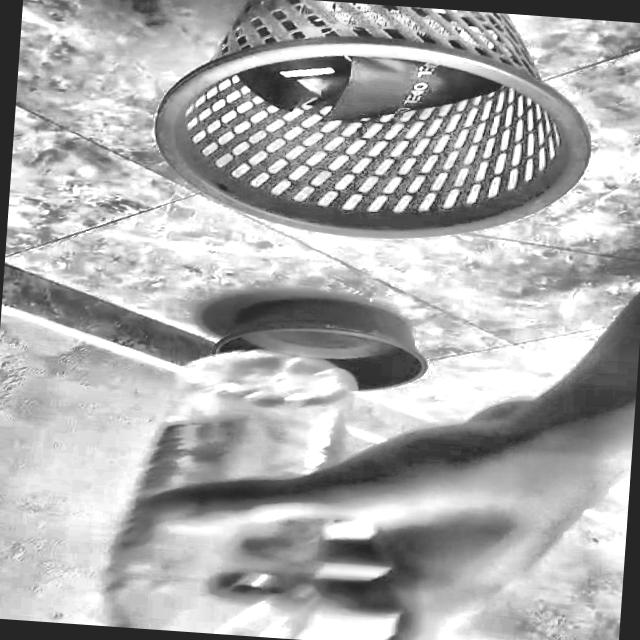Empty: (156, 35, 580, 244)
Plastic-Bottle: (92, 322, 355, 640)
